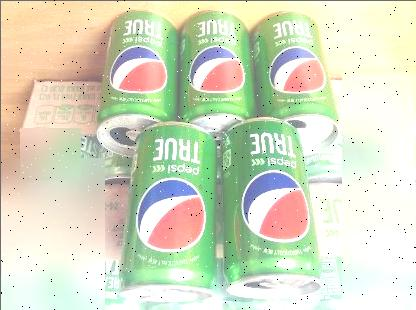Can: (115, 124, 225, 306), (216, 118, 322, 302), (250, 9, 340, 145), (95, 7, 181, 149), (177, 9, 254, 131)
